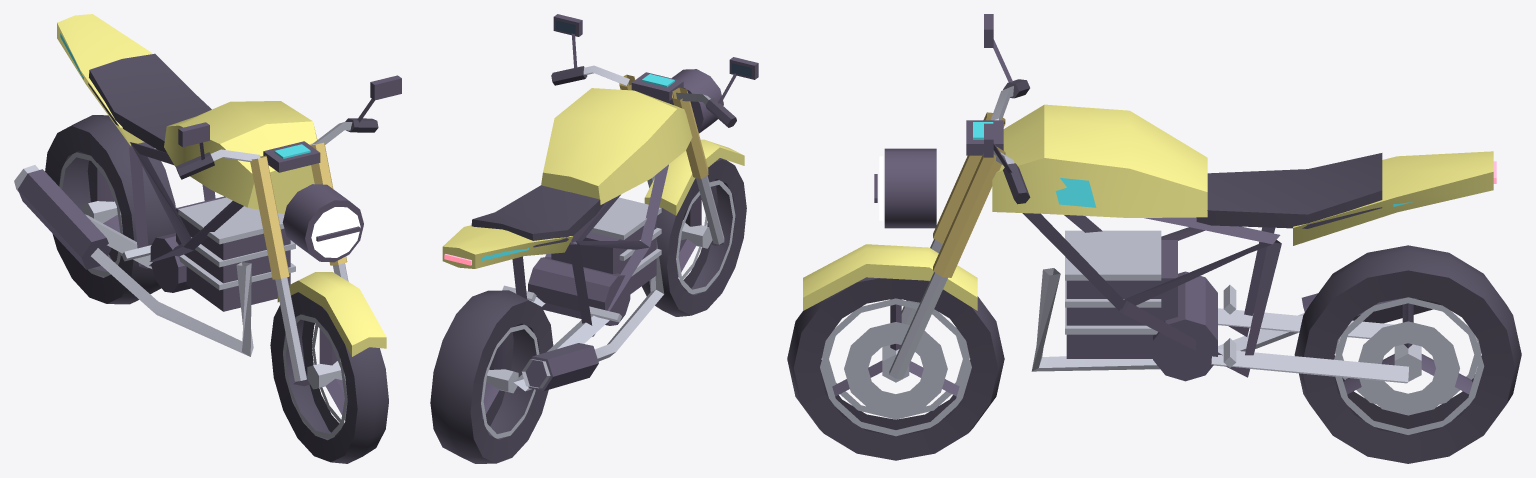
The model's file is wren-400.glb.
The picture shows the model from 3 angles, left to right: view 1: azimuth 30°, elevation 25°; view 2: azimuth 150°, elevation 25°; view 3: azimuth 270°, elevation 25°; orthographic projection. The views are drawn at different scales.
Parts seen in each view (by area): view 1: bike_body, wheel_f, wheel_r; view 2: bike_body, wheel_r, wheel_f; view 3: bike_body, wheel_r, wheel_f.
Boxes of the visible parts, x1,y1,x2,y2 form: bike_body: (14,14,401,381); wheel_f: (270,292,388,463); wheel_r: (45,115,175,304); bike_body: (442,14,758,391); wheel_r: (430,290,553,463); wheel_f: (641,158,746,316); bike_body: (803,14,1496,383); wheel_r: (1294,245,1521,463); wheel_f: (787,277,1004,460).
Bounding box in the file's own units: 0.8 × 1.13 × 1.98.
